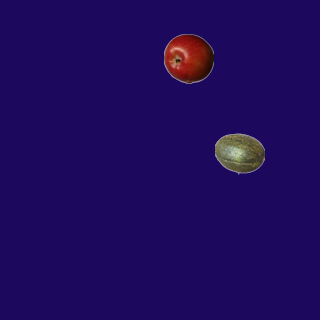Apple Braeburn: (163, 33, 213, 83)
Melon Piel de Sapo: (214, 128, 264, 178)
